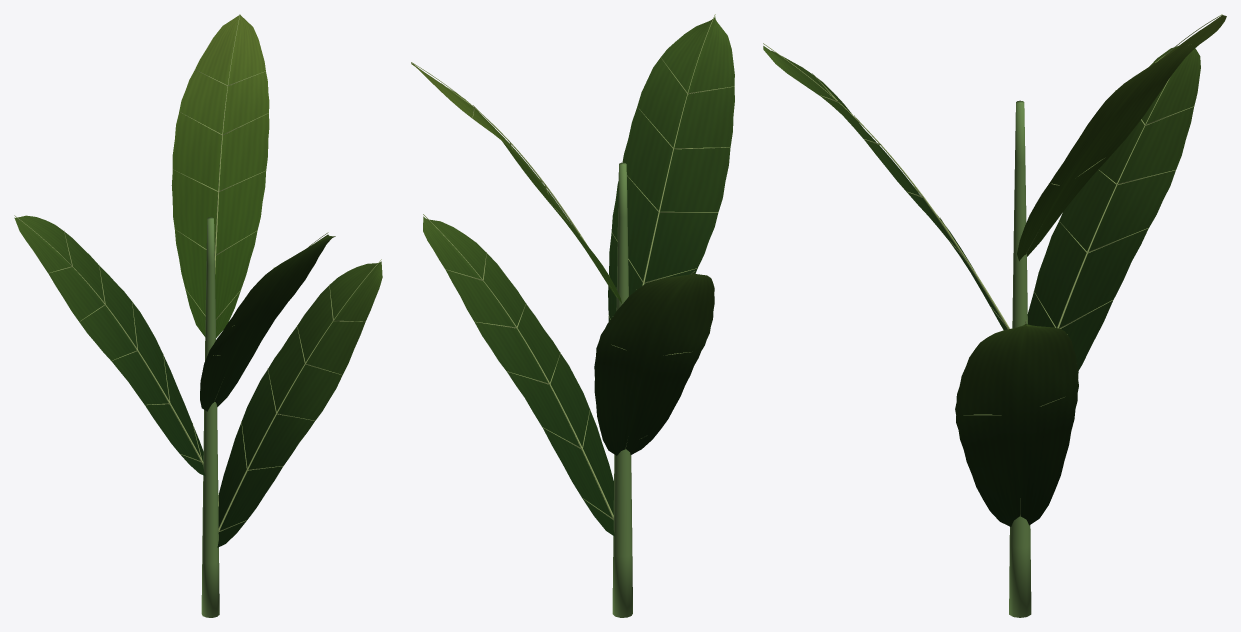
The model's file is tulip-05.glb.
The picture shows the model from 3 angles, left to right: view 1: azimuth 30°, elevation 25°; view 2: azimuth 150°, elevation 25°; view 3: azimuth 270°, elevation 25°; orthographic projection. The views are drawn at different scales.
Parts seen in each view (by area): view 1: tulip_stage_05_leaf_veins.008, tulip_stage_05_young_leaf.008, tulip_stage_05_stem_fibres.008, tulip_stage_05_raised_midveins.008; view 2: tulip_stage_05_leaf_veins.008, tulip_stage_05_stem_fibres.008, tulip_stage_05_raised_midveins.008, tulip_stage_05_young_leaf.008; view 3: tulip_stage_05_leaf_veins.008, tulip_stage_05_young_leaf.008, tulip_stage_05_stem_fibres.008, tulip_stage_05_raised_midveins.008.
Part boxes in pixels (x1=…): tulip_stage_05_leaf_veins.008: x1=14, y1=215, x2=382, y2=547; tulip_stage_05_young_leaf.008: x1=171, y1=15, x2=269, y2=337; tulip_stage_05_stem_fibres.008: x1=201, y1=217, x2=219, y2=617; tulip_stage_05_raised_midveins.008: x1=14, y1=14, x2=381, y2=531; tulip_stage_05_leaf_veins.008: x1=423, y1=16, x2=734, y2=536; tulip_stage_05_stem_fibres.008: x1=612, y1=162, x2=632, y2=617; tulip_stage_05_raised_midveins.008: x1=411, y1=14, x2=734, y2=519; tulip_stage_05_young_leaf.008: x1=411, y1=63, x2=621, y2=303; tulip_stage_05_leaf_veins.008: x1=763, y1=46, x2=1200, y2=526; tulip_stage_05_young_leaf.008: x1=1017, y1=15, x2=1226, y2=261; tulip_stage_05_stem_fibres.008: x1=1009, y1=100, x2=1031, y2=617; tulip_stage_05_raised_midveins.008: x1=763, y1=14, x2=1222, y2=516.
Bounding box in the file's own units: 0.1554 × 0.2506 × 0.158.
Materials: 4 (2 with a texture image).
